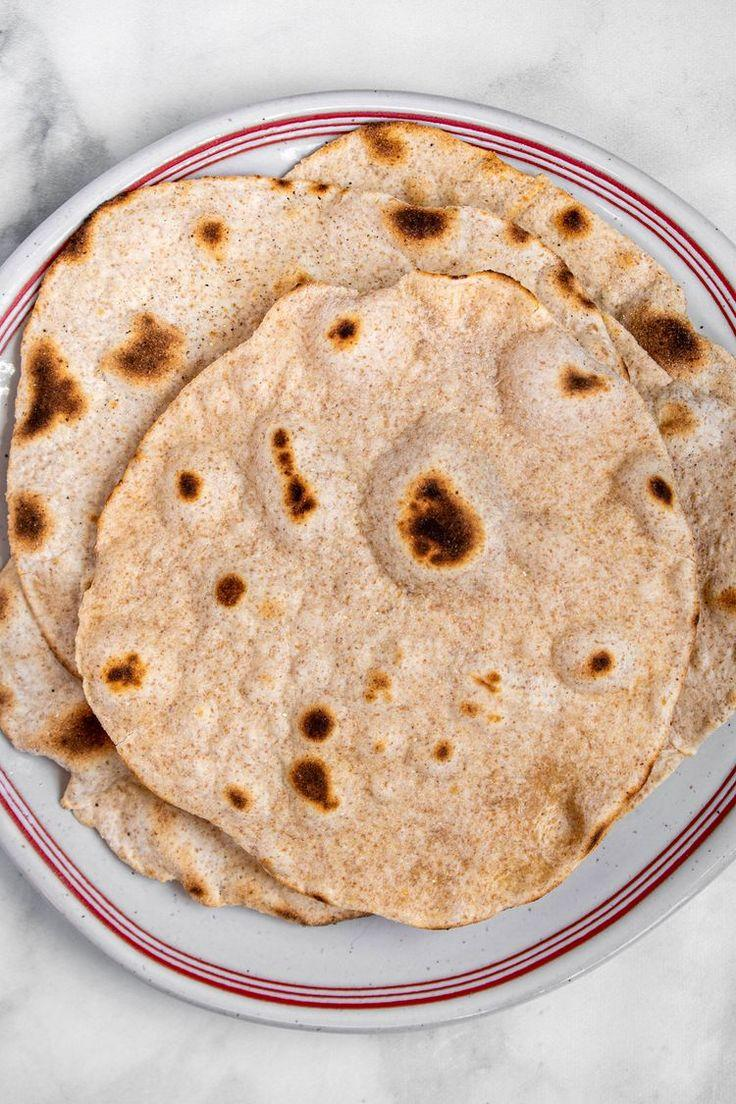roti phulka: (4, 112, 736, 941)
